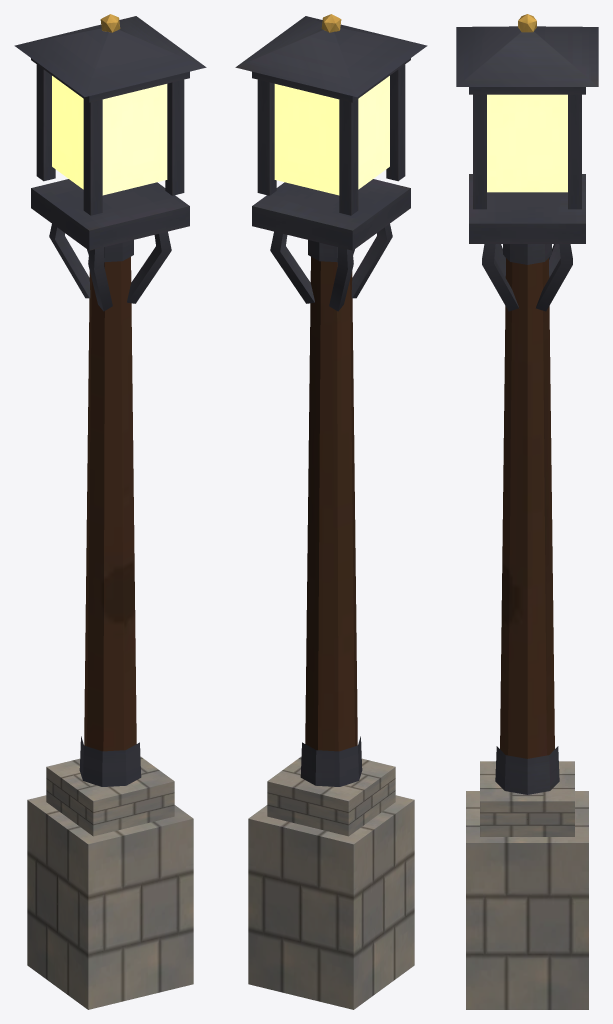
File: street_lamp.glb
3 renders of one model, left to right at view 1: azimuth 30°, elevation 25°; view 2: azimuth 150°, elevation 25°; view 3: azimuth 270°, elevation 25°, orthographic.
Visible parts, largest first — view 1: street_lamp; view 2: street_lamp; view 3: street_lamp.
Part boxes in pixels (x1,y1,x2,y2): street_lamp: (14, 14, 206, 1009); street_lamp: (235, 14, 427, 1009); street_lamp: (456, 14, 598, 1009).
Bounding box in the file's own units: 0.5092 × 3.83 × 0.5092.
Materials: 3 (3 with a texture image).
